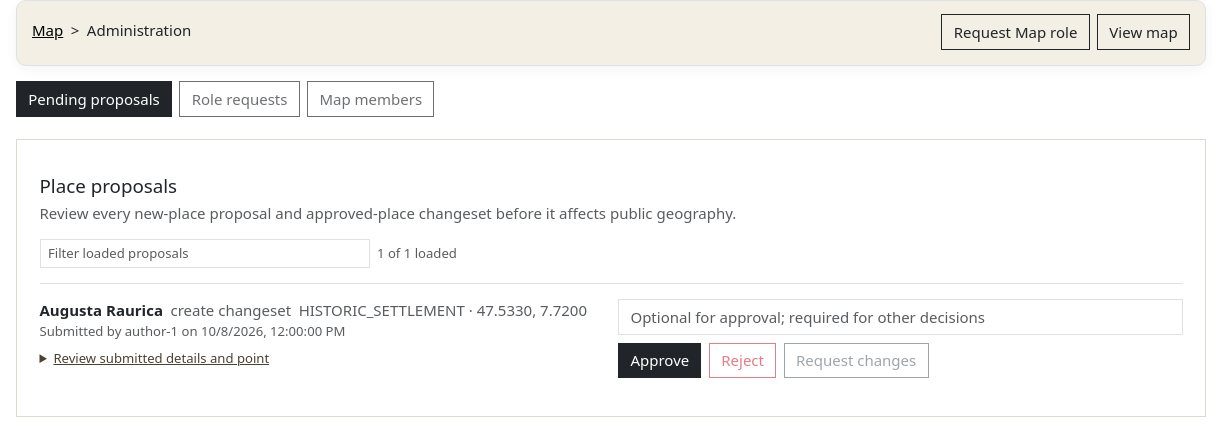
it: lets a map editor request changes and removes the proposal from review
Expected: the button "Request changes" is disabled, left=784, top=342, right=928, bottom=378
Type "Please add a citation." into the field named "Review rationale for Augusta Raurica".
click(900, 317); type("Please add a citation.")  # box left=618, top=299, right=1182, bottom=335
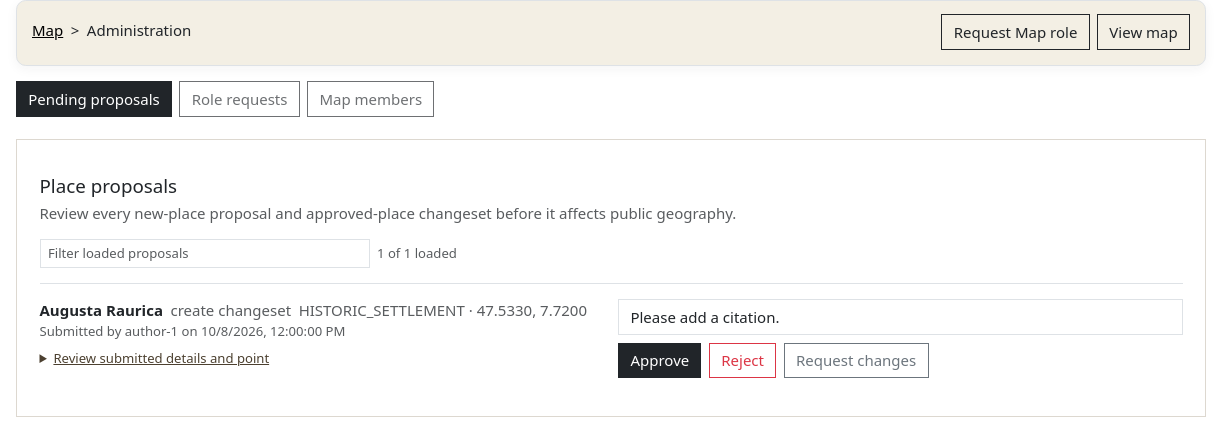
Click the button "Request changes".
click(856, 360)  # box left=784, top=342, right=928, bottom=378
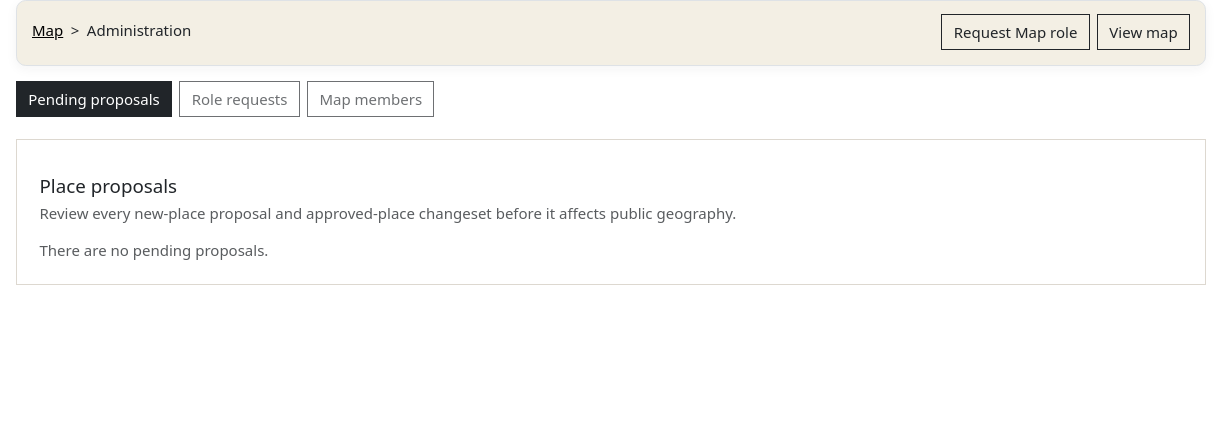
Expected: the text "Augusta Raurica" is gone
